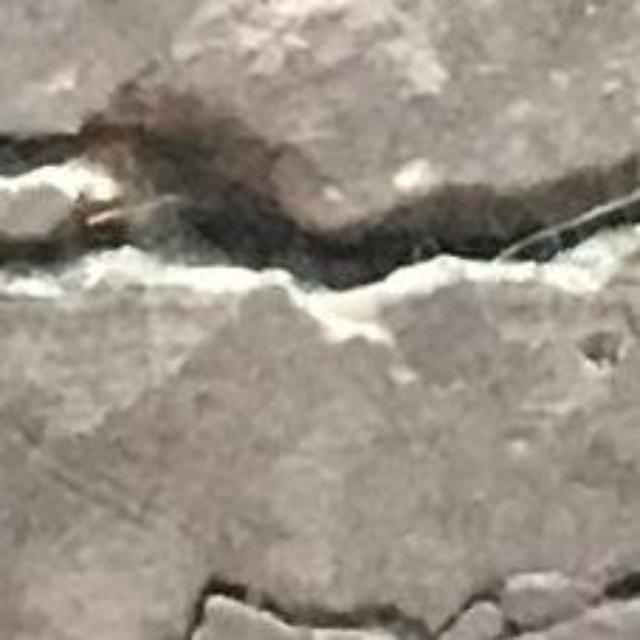crack: (0, 96, 639, 290)
